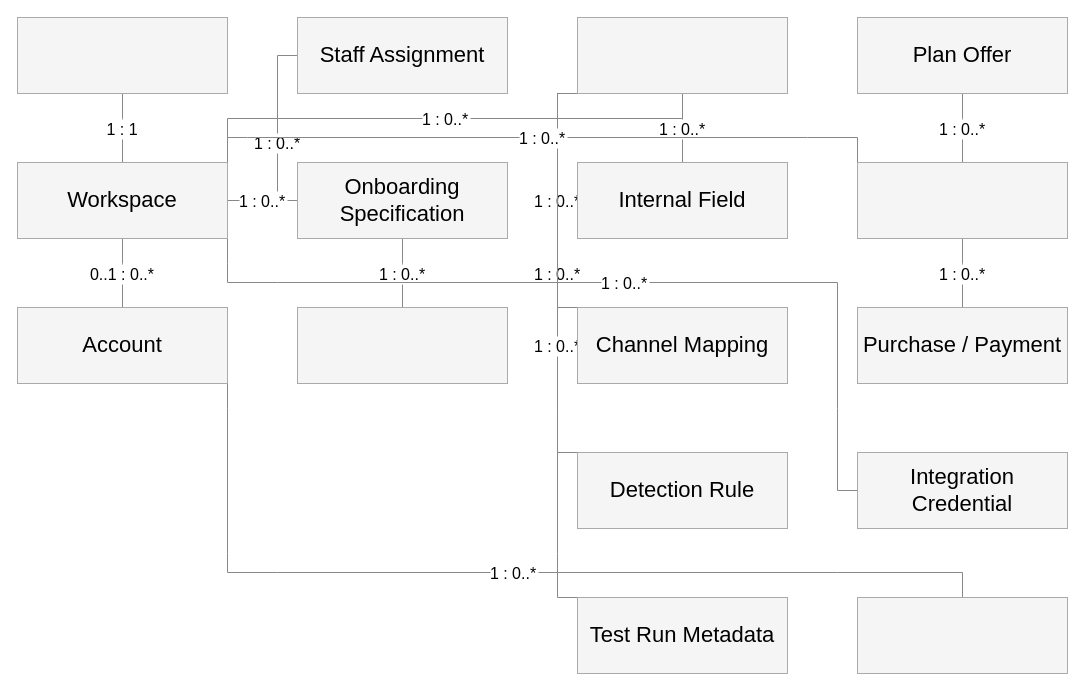
Image size: 1085x691. Some labels were removed from this diagram. The shapes that lost their labels are listed below. From the top down, each one's centre as x and y in pixels, then its label:
At pixel 122 55: "Enterprise".
At pixel 682 55: "Detection Configuration".
At pixel 962 200: "Workspace Entitlement".
At pixel 402 345: "Handover Decision".
At pixel 962 635: "Field Permission".
